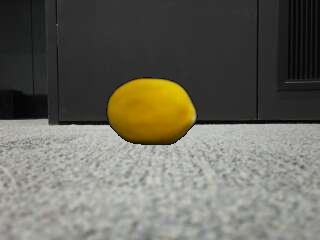lemon: (106, 77, 197, 145)
